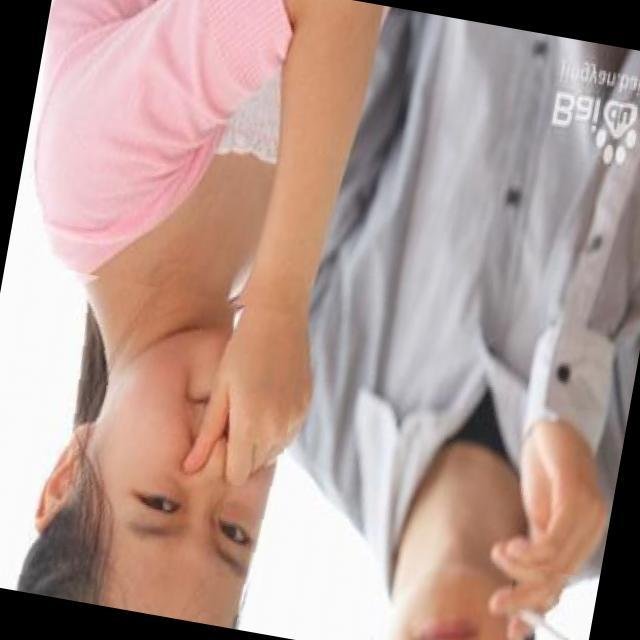cigarette: (500, 564, 599, 640)
